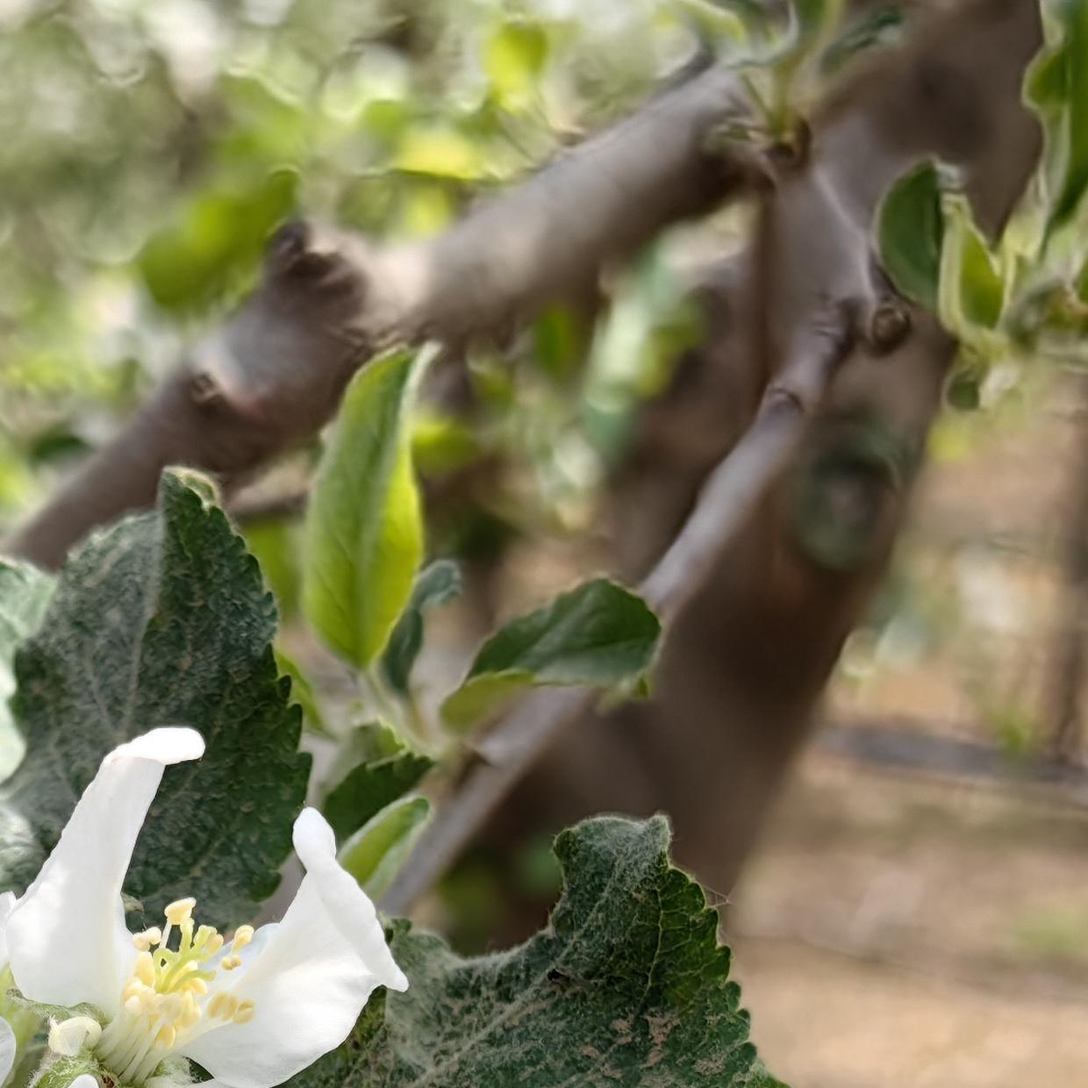apple_flower: (0, 726, 404, 1088)
